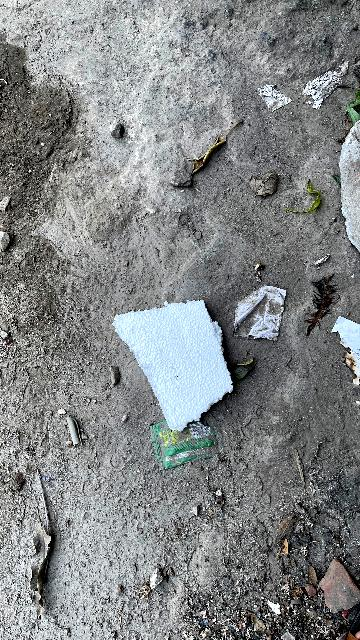cocksheet: (110, 292, 234, 435)
